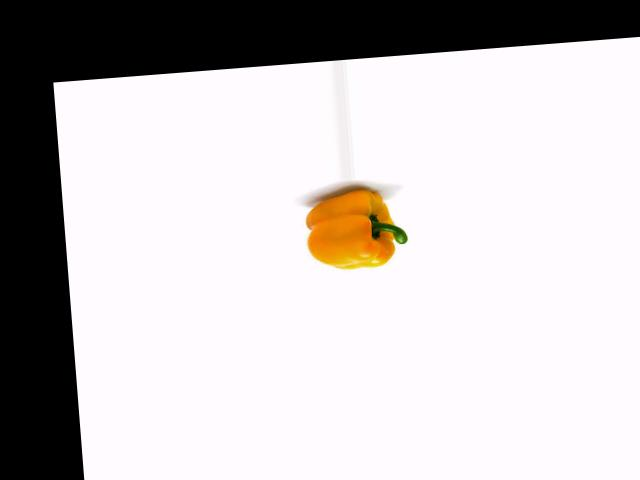bell_pepper: (300, 186, 418, 276)
